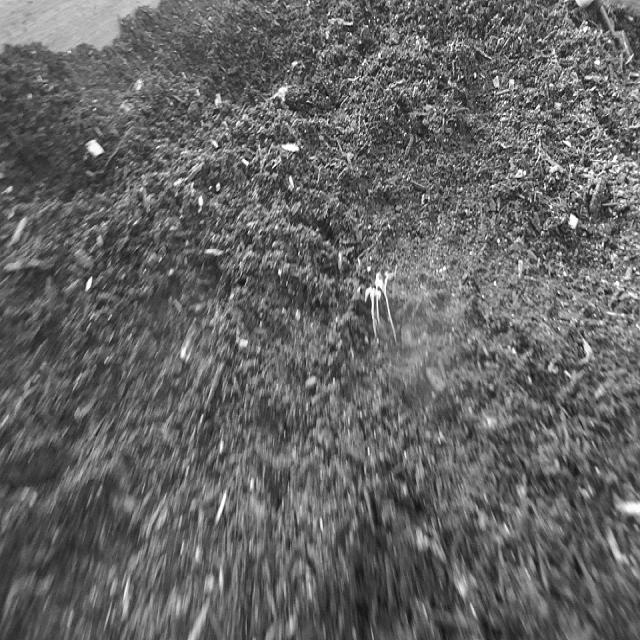Unhealthy: (356, 247, 409, 371)
